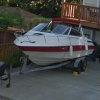Boat: (14, 15, 95, 68)
